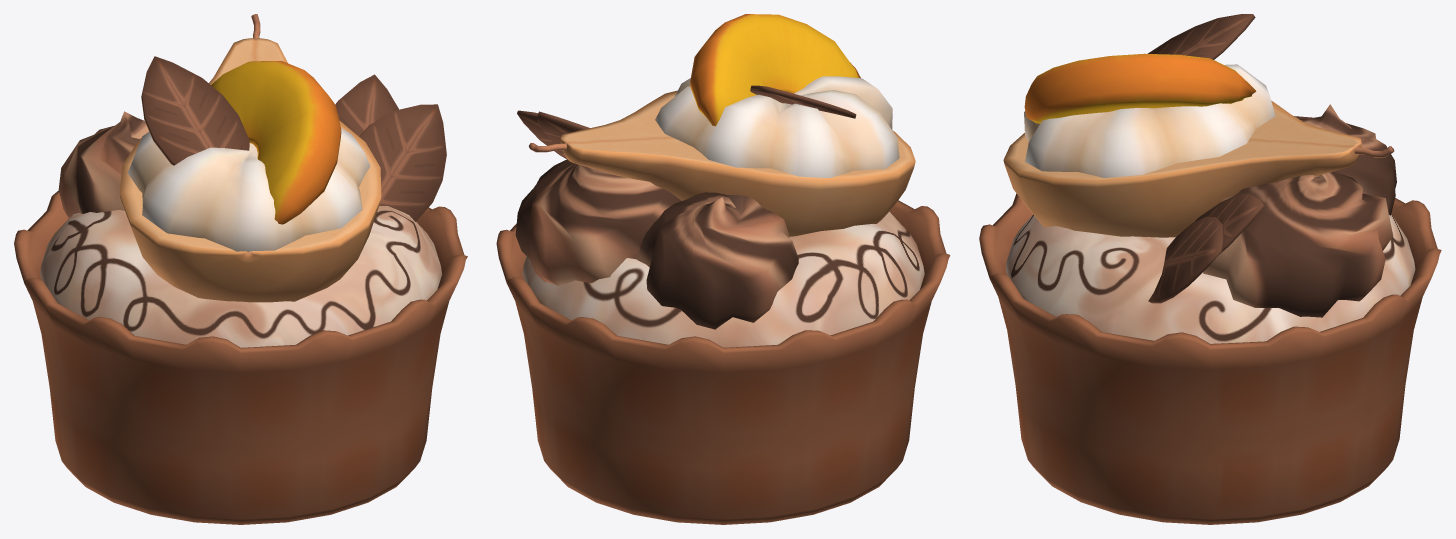
Rendered from dessert_pear_1.fbx.
3 views of the same model, side by side, from view 1: azimuth 30°, elevation 25°; view 2: azimuth 150°, elevation 25°; view 3: azimuth 270°, elevation 25° (orthographic).
Parts seen in each view (by area): view 1: dessert_wafer_dark; view 2: dessert_wafer_dark; view 3: dessert_wafer_dark.
Part boxes in pixels (x1,y1,x2,y2): dessert_wafer_dark: (14,14,467,524); dessert_wafer_dark: (496,14,950,524); dessert_wafer_dark: (979,14,1441,524).
Bounding box in the file's own units: 13.1 × 12.51 × 12.95.
